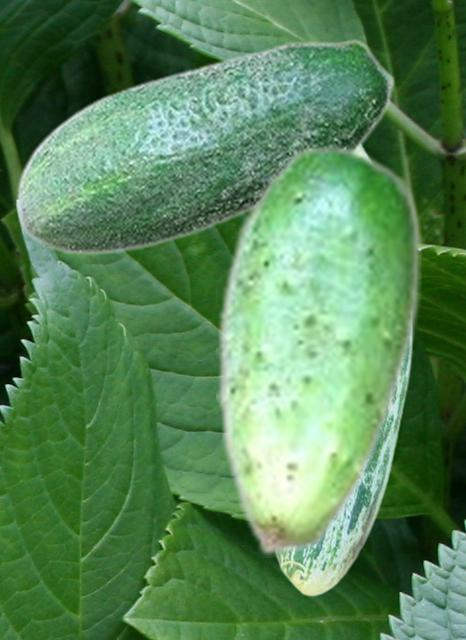cucumber: (216, 142, 420, 556), (15, 38, 395, 254), (274, 147, 412, 596)
